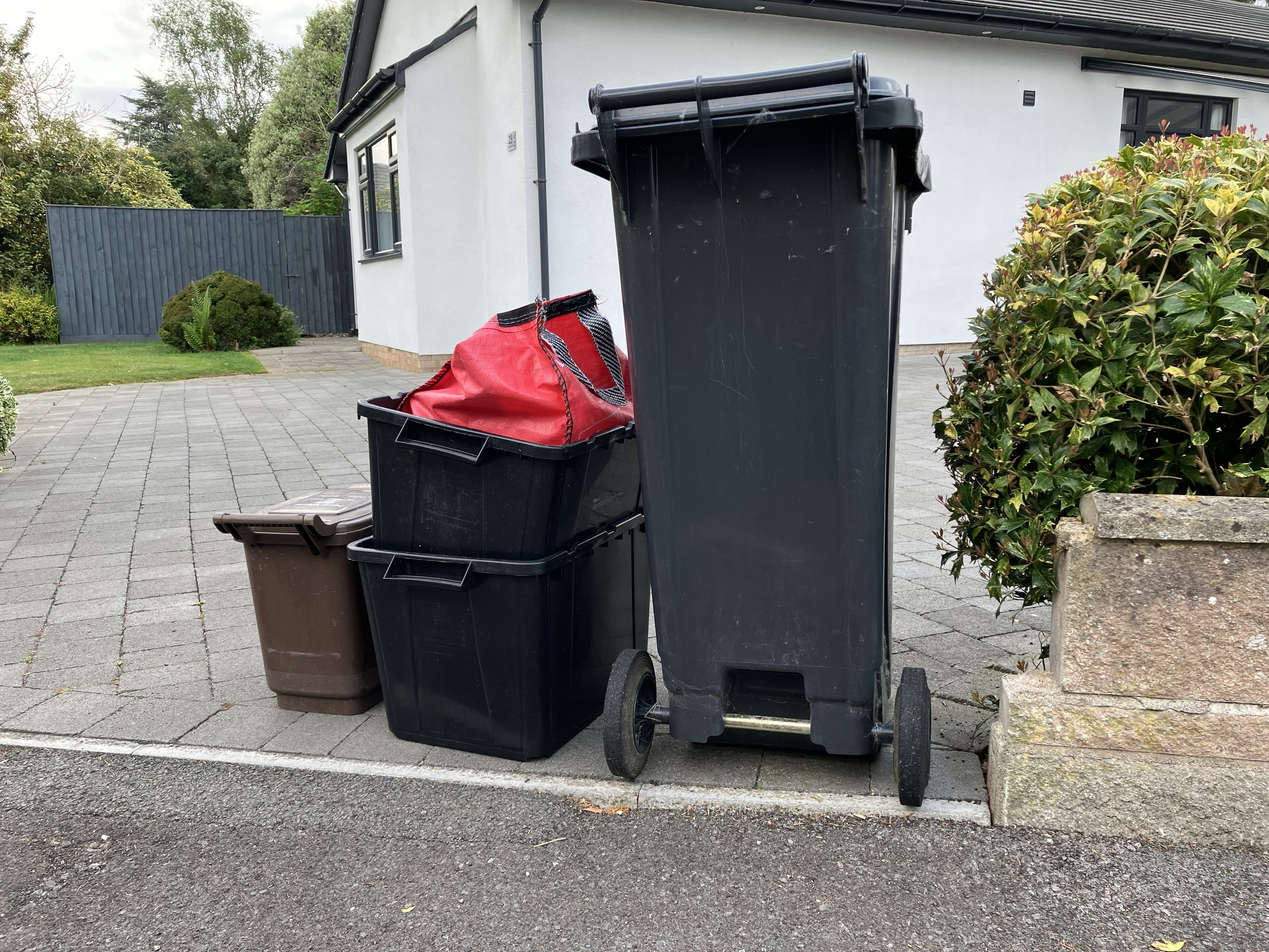bin_empty: (573, 54, 931, 806)
bulk_waste: (348, 510, 650, 760), (358, 396, 641, 558), (213, 484, 380, 713)
normal_waste: (399, 289, 633, 444)
